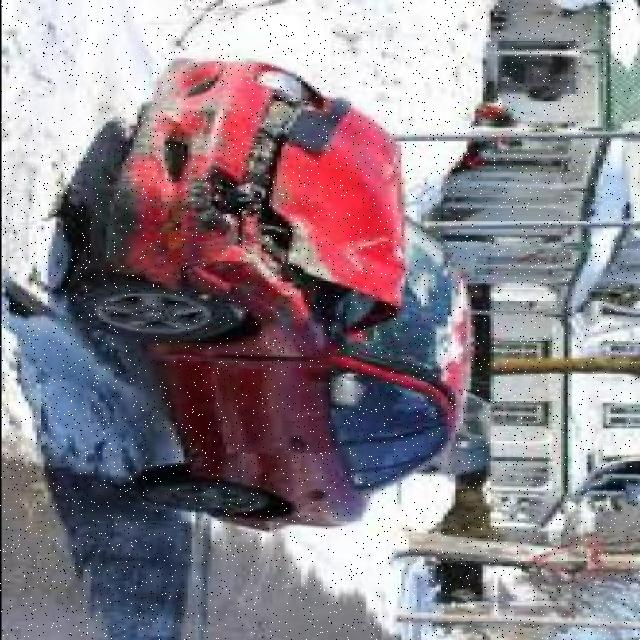damage: (92, 54, 407, 360)
